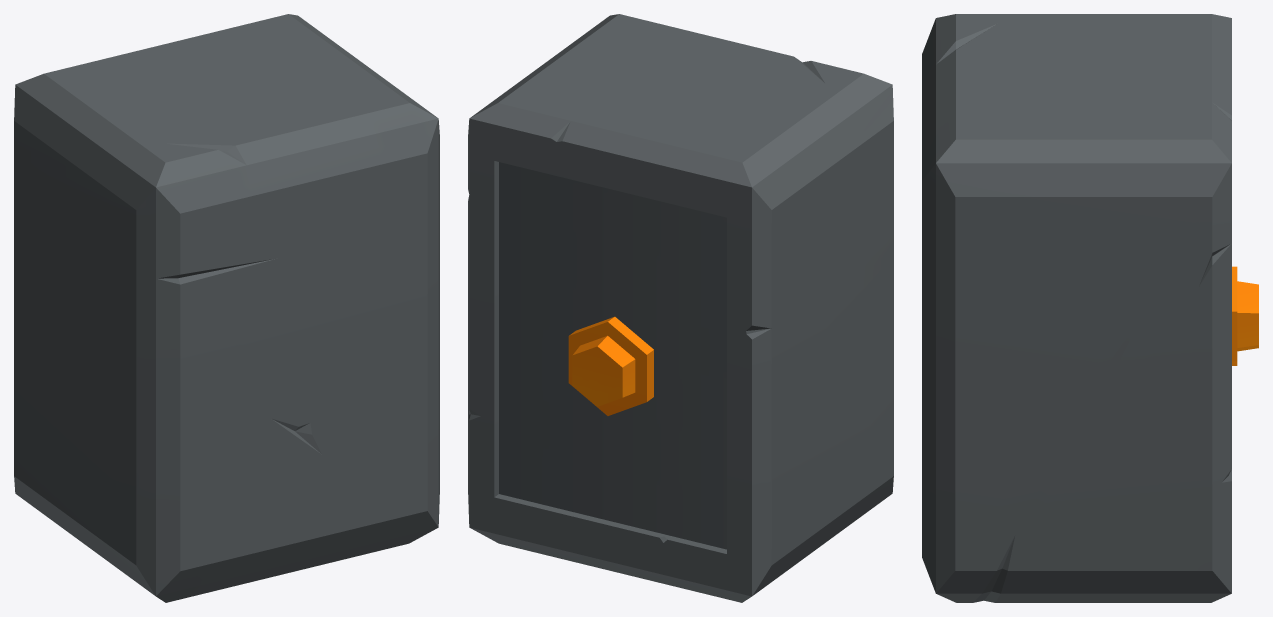
File: safe1.fbx
3 renders of one model, left to right at view 1: azimuth 30°, elevation 25°; view 2: azimuth 150°, elevation 25°; view 3: azimuth 270°, elevation 25°, orthographic. The views are drawn at different scales.
Visible parts, largest first — view 1: Cube; view 2: Cube, Cube.001; view 3: Cube, Cube.001.
Boxes of the visible parts, x1,y1,x2,y2 form: Cube: [14, 14, 439, 602]; Cube: [468, 14, 893, 602]; Cube.001: [499, 162, 726, 549]; Cube: [922, 14, 1231, 602]; Cube.001: [1232, 266, 1258, 365].
Size of the model in its own units: 673 by 933 by 614.
Materials: 1 (1 with a texture image).
